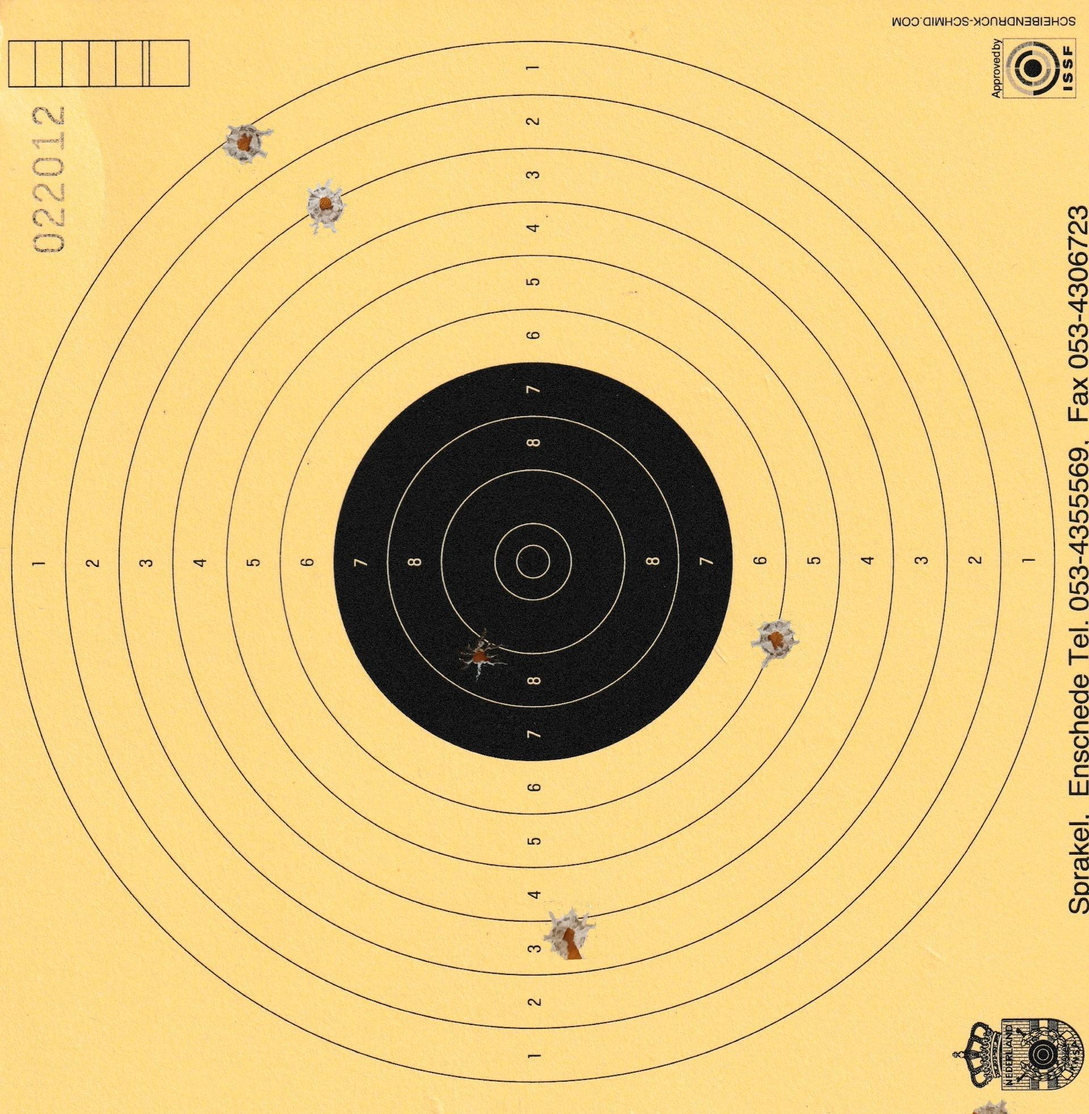hole: (752, 617, 806, 664), (548, 913, 597, 964), (457, 627, 498, 680), (220, 123, 267, 167), (306, 182, 346, 232)
